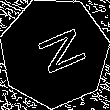N_SW: (24, 24, 85, 81)
